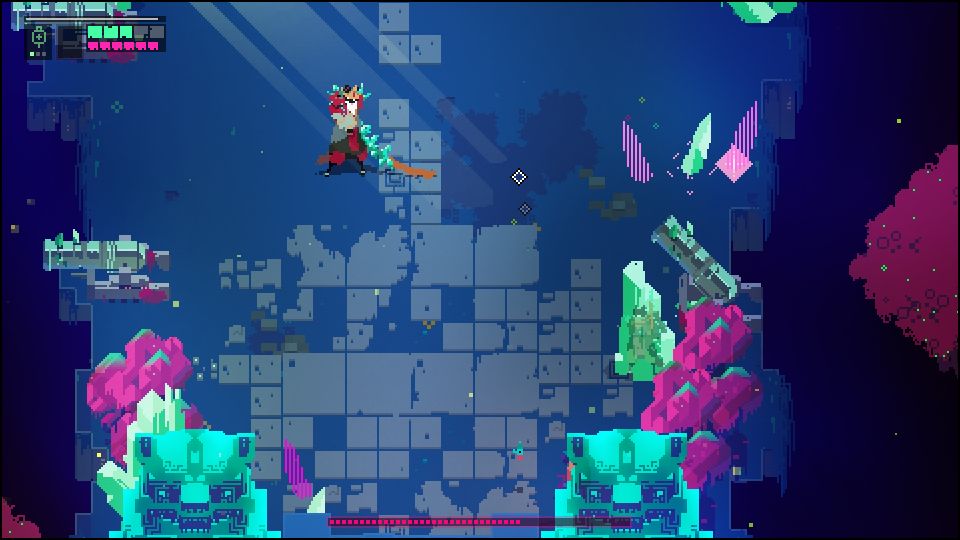hanged_crys: (721, 101, 761, 181), (279, 433, 317, 503), (620, 117, 656, 180), (683, 110, 713, 183)
hanged_man: (314, 78, 394, 182)
